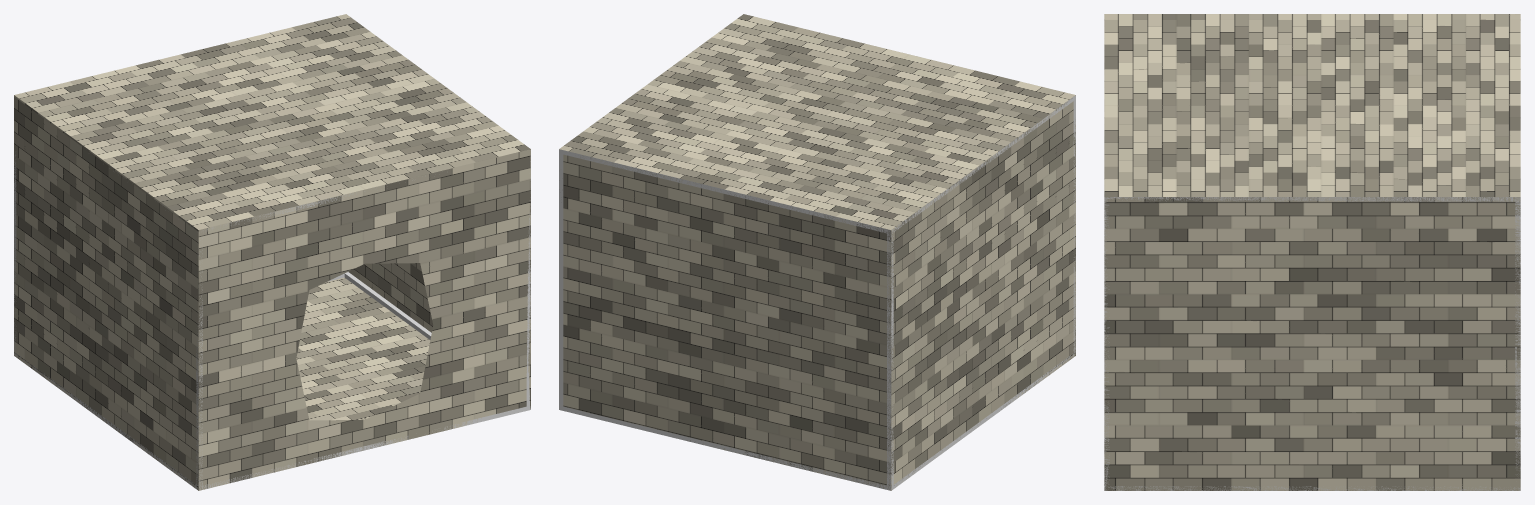
Rendered from FinalRoom.fbx.
3 views of the same model, side by side, from view 1: azimuth 30°, elevation 25°; view 2: azimuth 150°, elevation 25°; view 3: azimuth 270°, elevation 25° (orthographic). The views are drawn at different scales.
Parts seen in each view (by area): view 1: Plane, Plane.001; view 2: Plane, Plane.001; view 3: Plane, Plane.001.
Boxes of the visible parts, x1=… form: Plane: x1=14, y1=14, x2=530, y2=490; Plane.001: x1=14, y1=151, x2=530, y2=490; Plane: x1=559, y1=14, x2=1075, y2=490; Plane.001: x1=559, y1=95, x2=1075, y2=490; Plane: x1=1104, y1=14, x2=1520, y2=490; Plane.001: x1=1104, y1=197, x2=1520, y2=490.
Bounding box in the file's own units: 800 × 600 × 770.
Materials: 1 (1 with a texture image).
